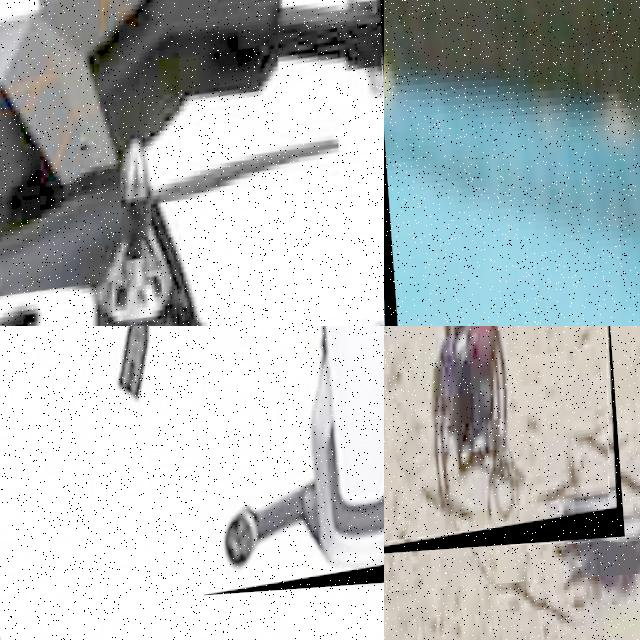drone: (0, 0, 384, 326), (384, 326, 625, 558), (180, 326, 384, 594)
